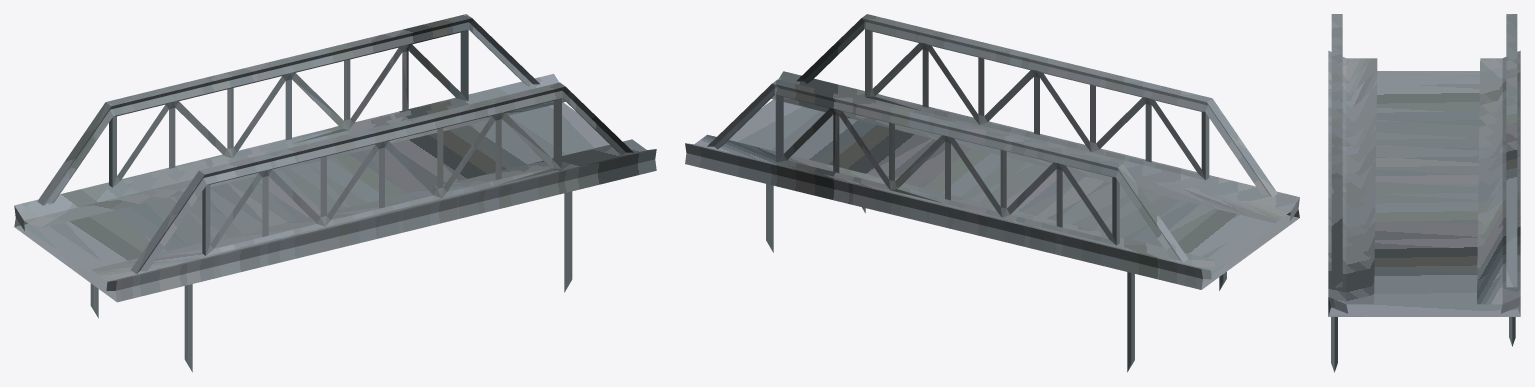
File: con_br_lod.obj
3 views of the same model, side by side, from view 1: azimuth 30°, elevation 25°; view 2: azimuth 150°, elevation 25°; view 3: azimuth 270°, elevation 25° (orthographic). The views are drawn at different scales.
Parts seen in each view (by area): view 1: con_br_LOD; view 2: con_br_LOD; view 3: con_br_LOD.
Boxes of the visible parts, box(x1,y1,x2,y2) form: con_br_LOD: box(14, 14, 656, 372); con_br_LOD: box(685, 14, 1299, 372); con_br_LOD: box(1328, 14, 1520, 372).
Size of the model in its own units: 61.68 by 23.31 by 20.35.
Materials: 1 (1 with a texture image).
